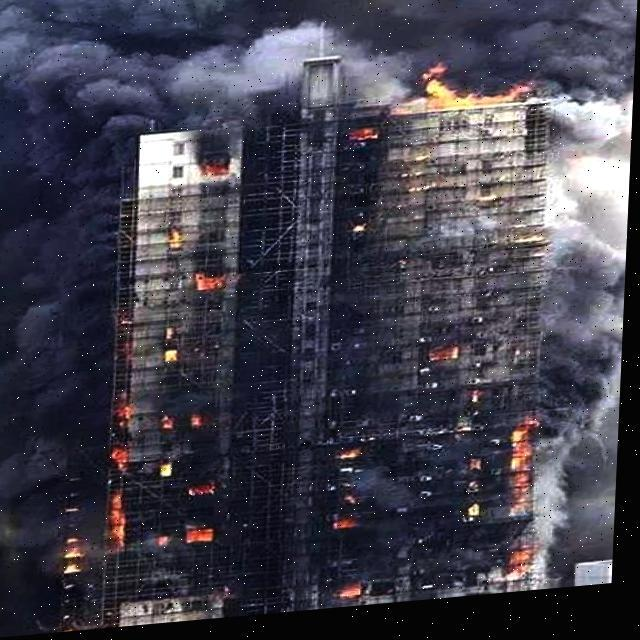Fire: (416, 63, 546, 123), (504, 426, 544, 528), (109, 491, 132, 552), (205, 158, 243, 188), (66, 532, 88, 580), (194, 274, 230, 296), (432, 348, 464, 372), (164, 225, 184, 255), (188, 530, 220, 548), (194, 486, 221, 500), (159, 412, 177, 433), (340, 520, 360, 535), (192, 416, 208, 433), (345, 589, 365, 602)
